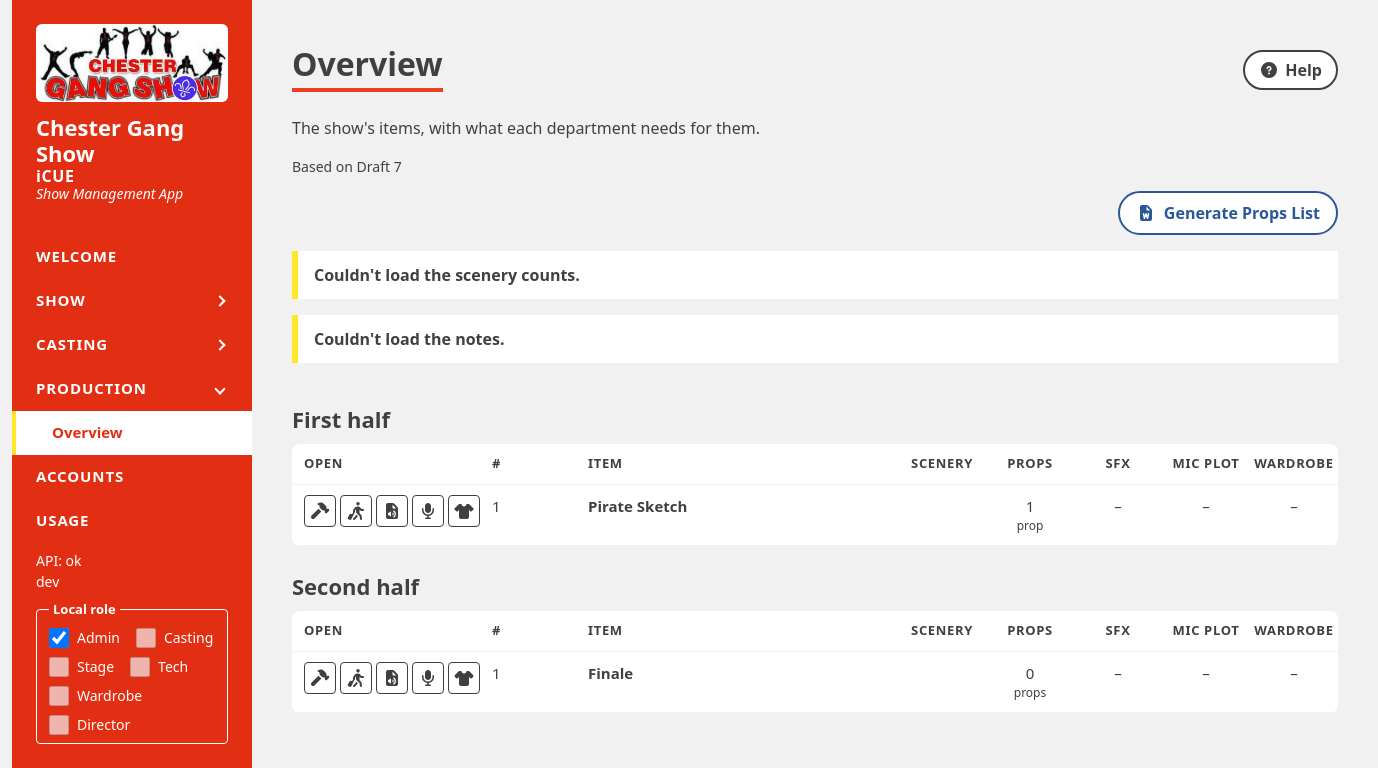
Test case: Generate Props List › shows it's busy and starts no second list while one is being made
What coordinates should you click on to do the following:
click the button with class "word-export-button"
I would click on:
 (1228, 213)
Its box is [1118,191,1338,235].
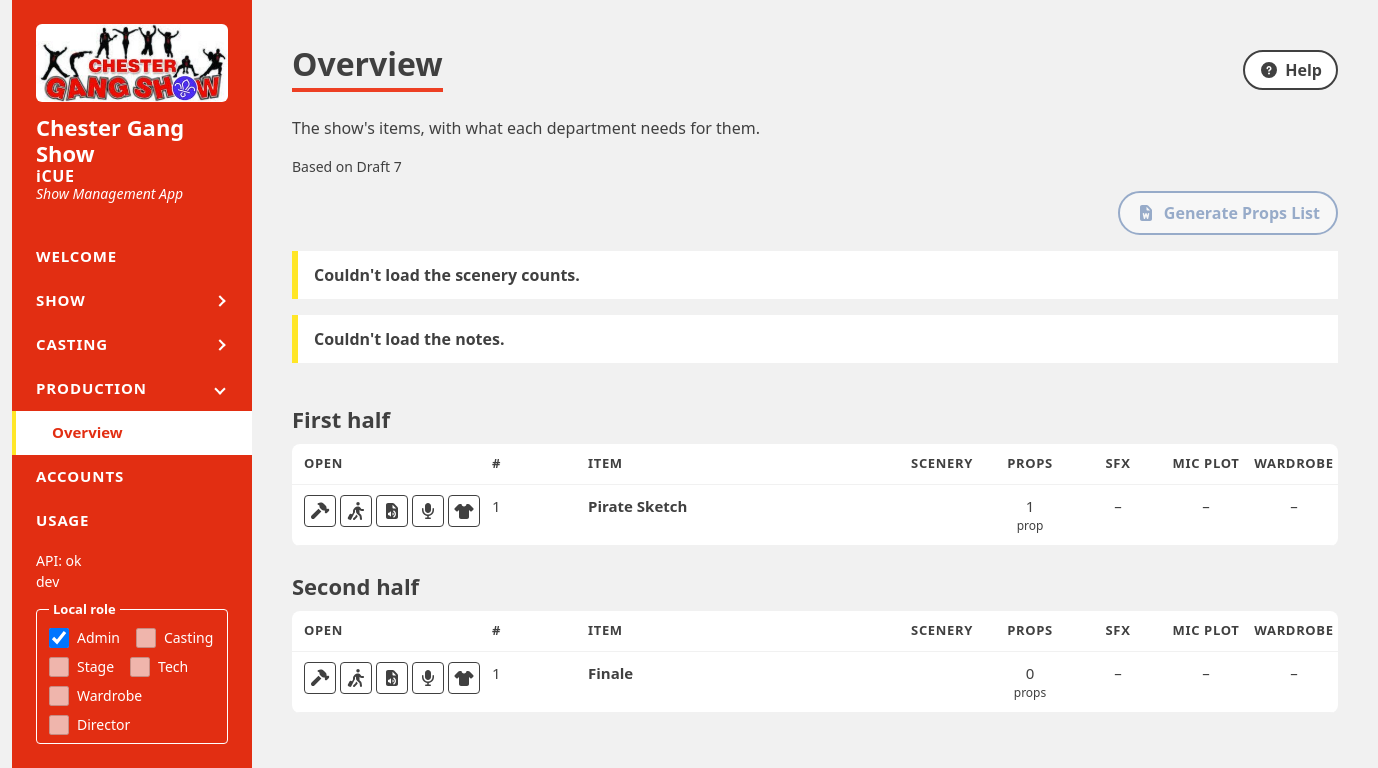
expect the button with class "word-export-button" is disabled: met
What coordinates should you click on to do the following:
click the button with class "word-export-button"
I would click on:
 (1228, 213)
Its box is [1118,191,1338,235].
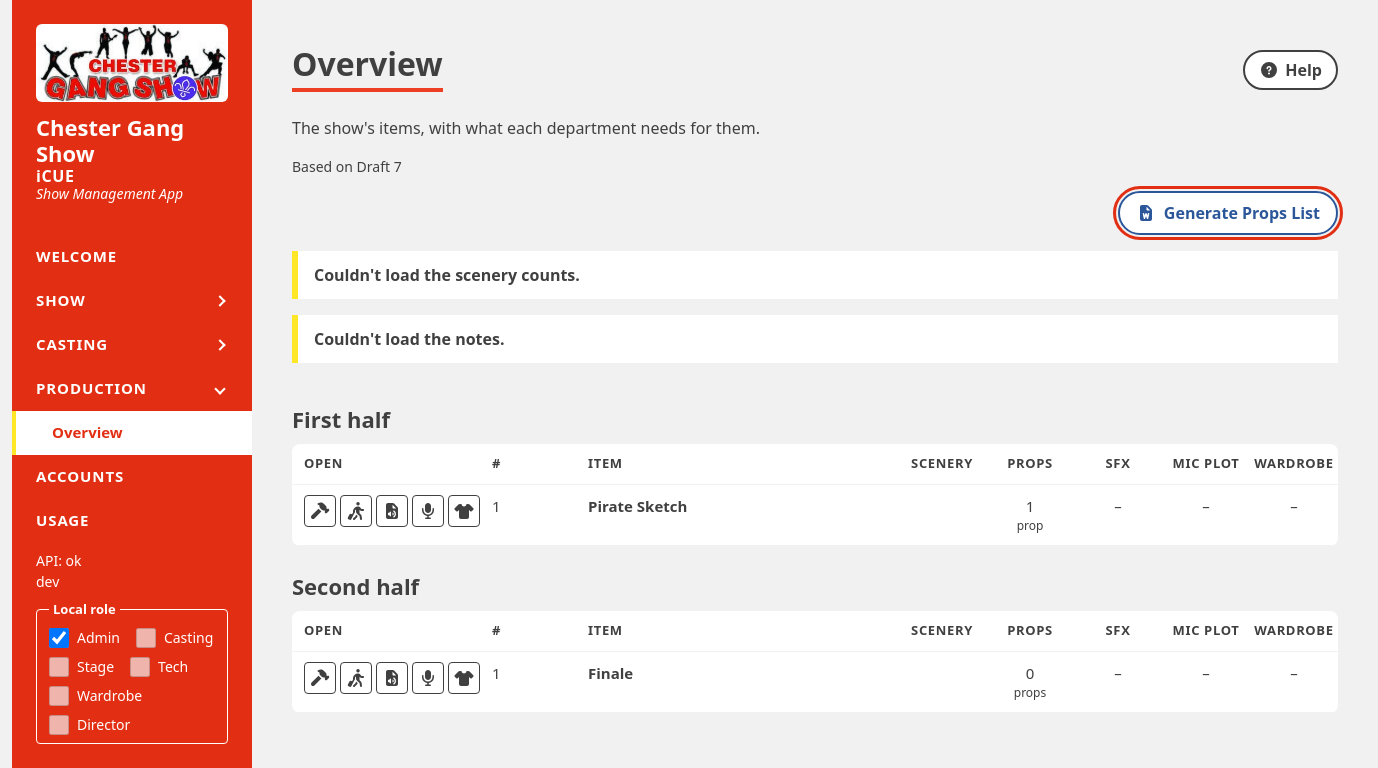
expect the button with class "word-export-button" is enabled: met, box [1118,191,1338,235]
